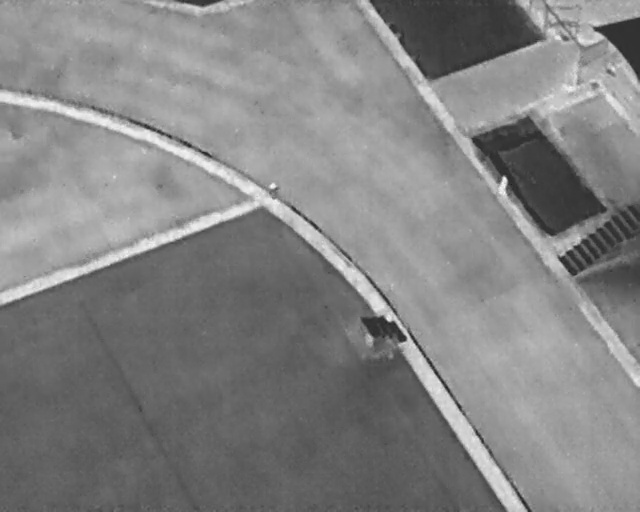Person: (496, 174, 510, 198), (268, 182, 280, 209)
